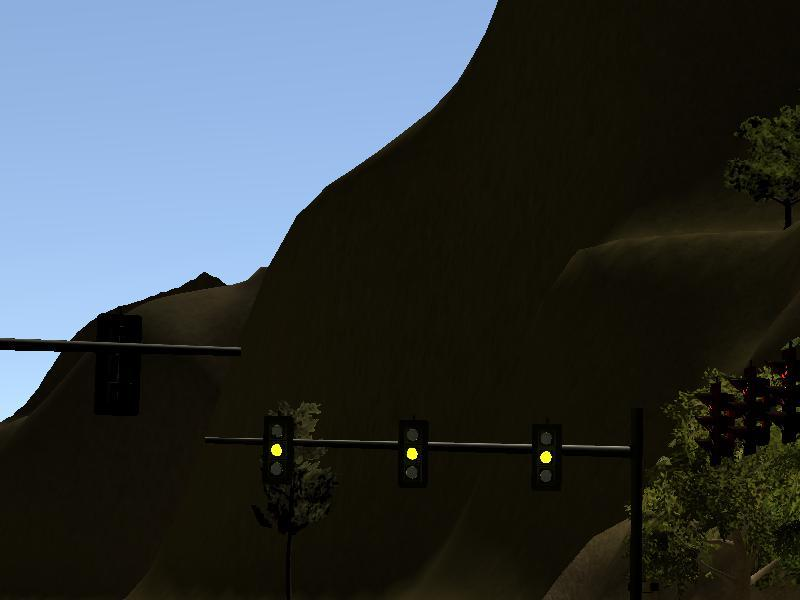Yellow: (263, 415, 294, 484), (530, 425, 563, 489), (398, 420, 429, 486)
